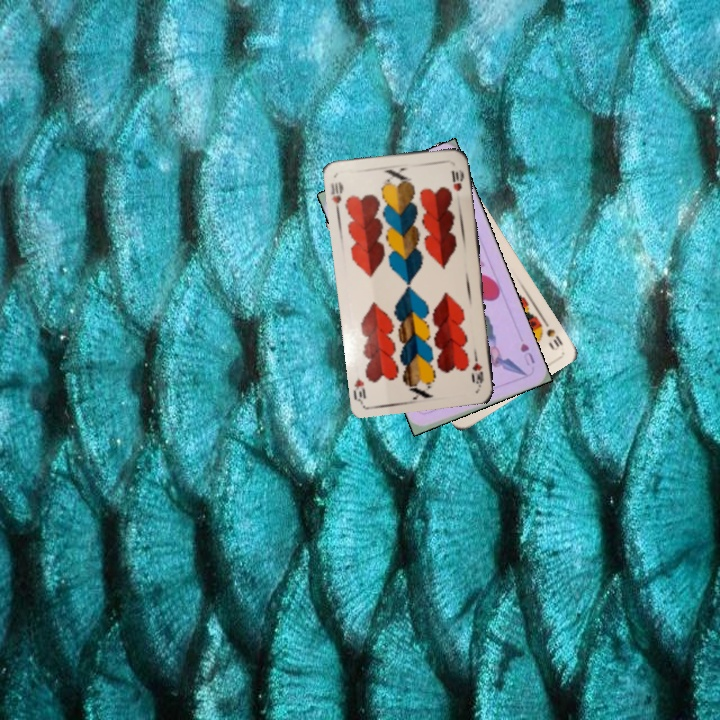H10: (327, 178, 346, 215), (469, 348, 486, 388)
HU: (516, 339, 537, 368)
S10: (538, 315, 566, 351)
